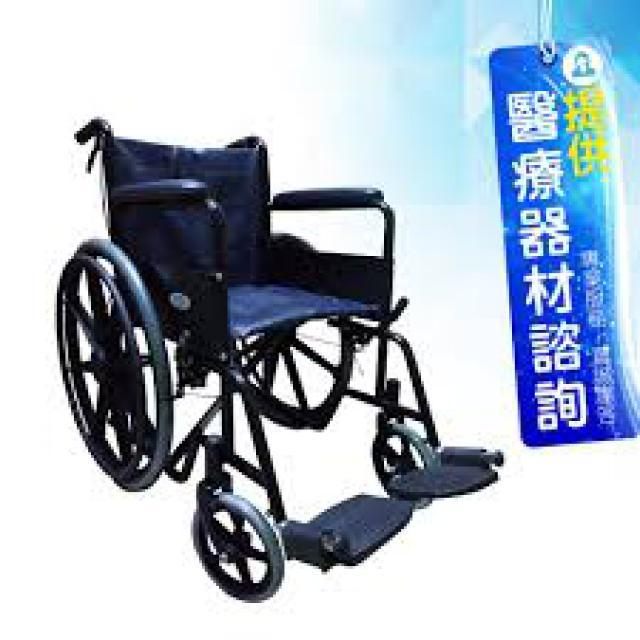wheelchair: (40, 88, 512, 600)
